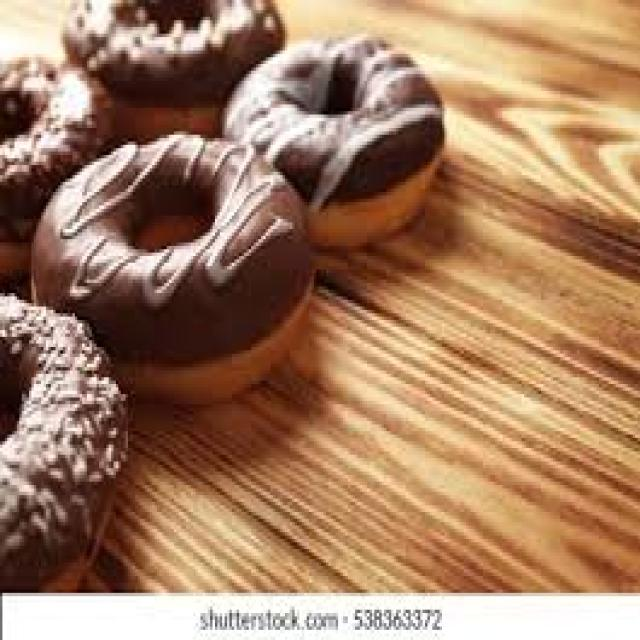Donut: (29, 146, 311, 397)
